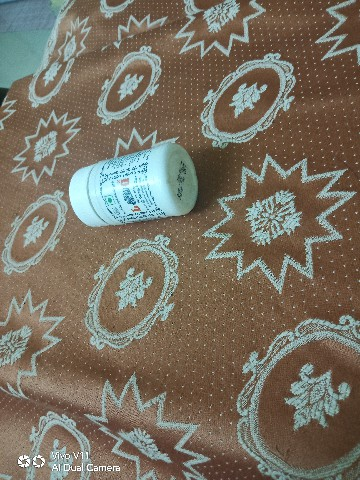lgasafoetidapowder small: (53, 141, 204, 252)
